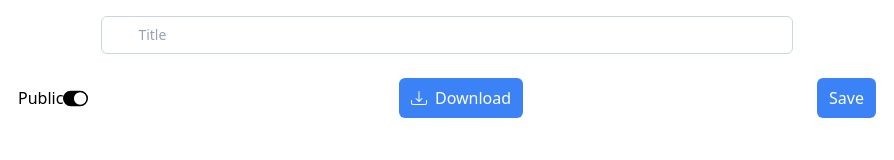
Test: CanvasContainer Component › should toggle between public and private
expect the text "Public" is shown: met, box [18,86,88,110]
Click the button with test id "toggleButton".
click(76, 98)  # box [63,86,88,110]
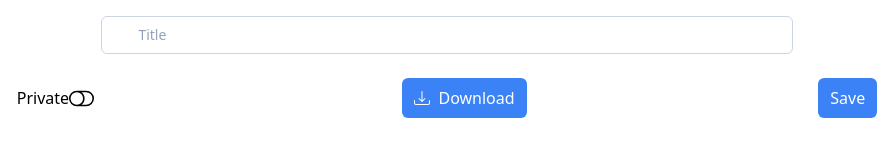
expect the text "Private" is shown: met, box [17,86,94,110]
